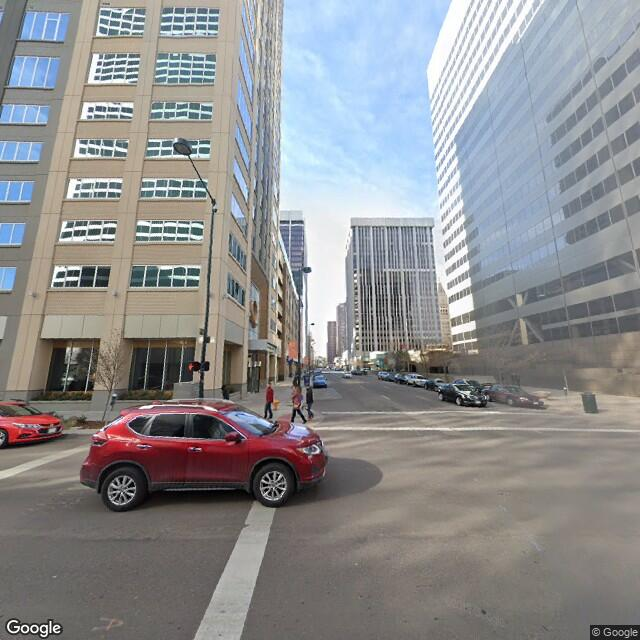lamp: (174, 134, 221, 360)
